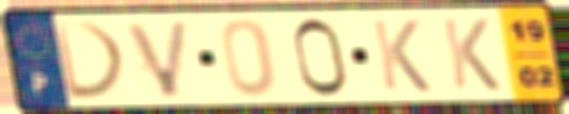0: (217, 15, 281, 100), (290, 15, 351, 98)
D: (51, 19, 132, 103)
K: (437, 15, 505, 94), (368, 17, 435, 95)
V: (122, 18, 195, 100)
